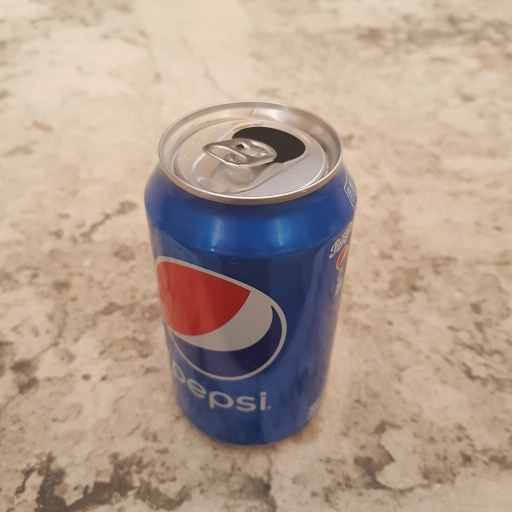Metal_0: (141, 92, 361, 450)
